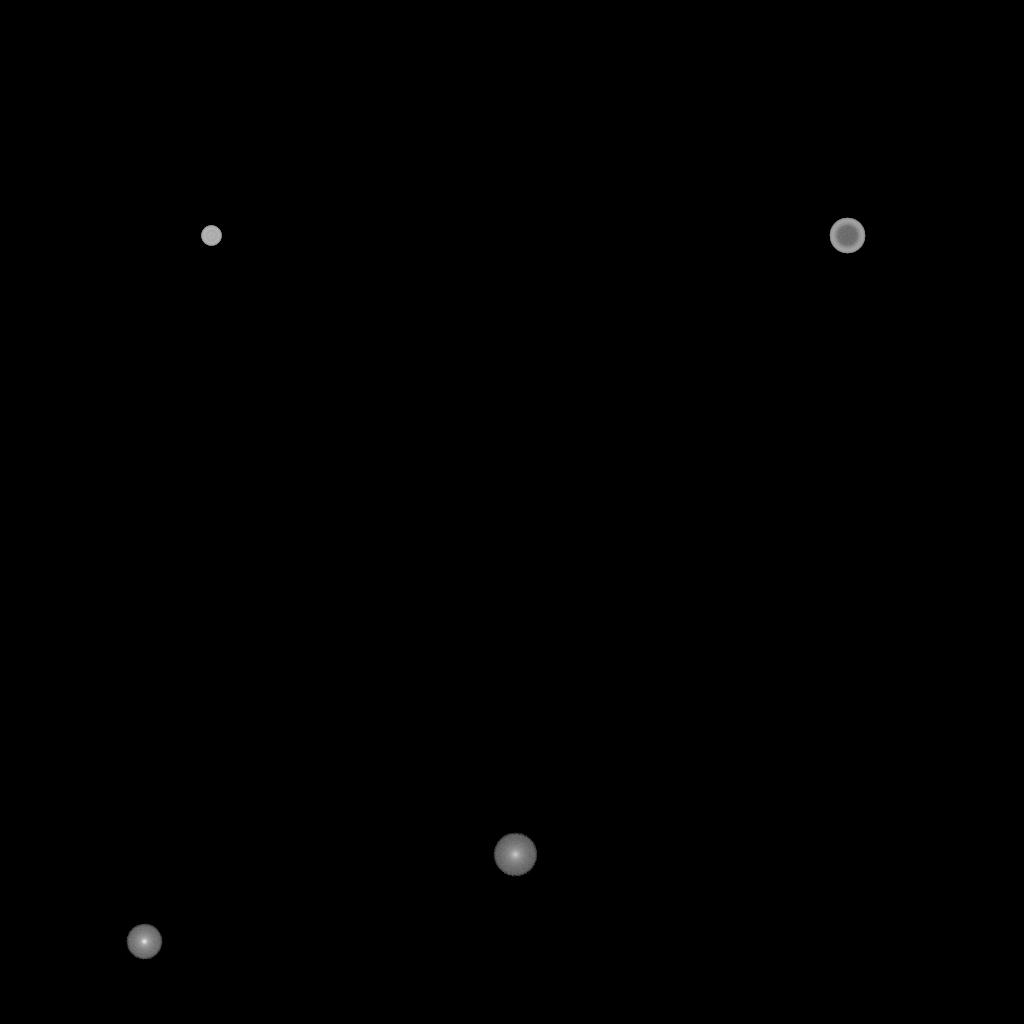depth:-40: (201, 226, 221, 246)
depth:-60: (829, 218, 865, 254)
depth:0: (126, 924, 162, 960)
depth:10: (493, 833, 537, 877)
